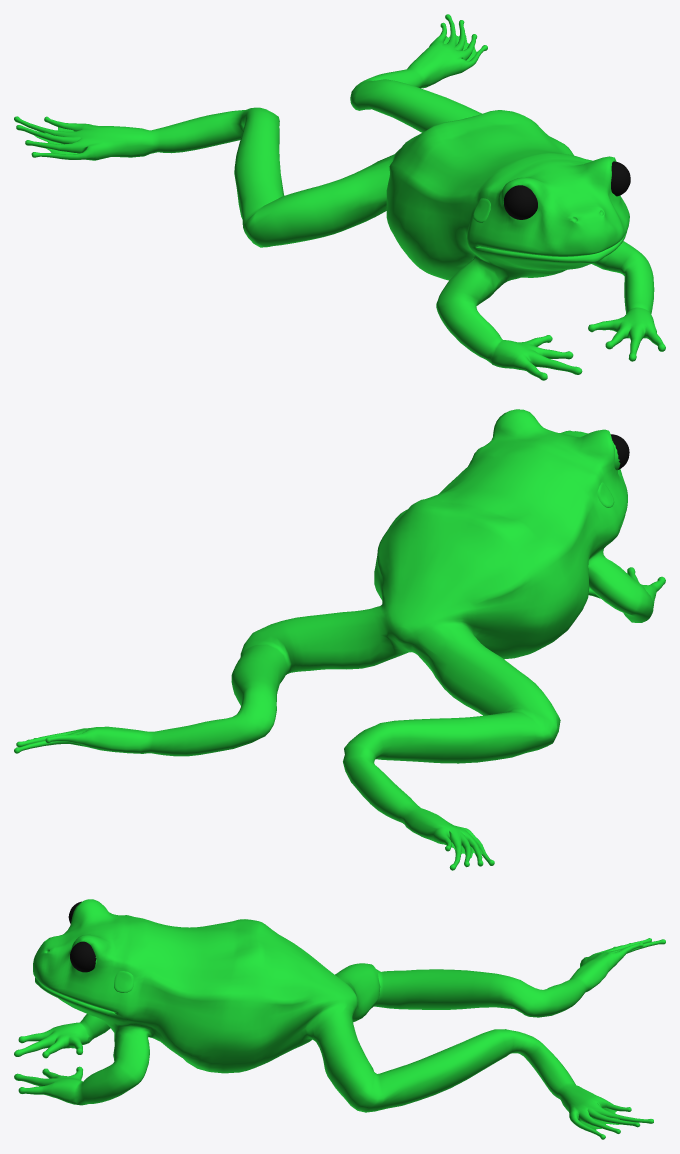
File: frog.obj
The picture shows the model from 3 angles, top to bottom: view 1: azimuth 30°, elevation 25°; view 2: azimuth 150°, elevation 25°; view 3: azimuth 270°, elevation 25°; orthographic projection. The views are drawn at different scales.
Visible parts, largest first — view 1: frog:Figure_2 group1, pSphere4, pSphere5; view 2: frog:Figure_2 group1; view 3: frog:Figure_2 group1, pSphere5.
Boxes of the visible parts, x1=… form: frog:Figure_2 group1: x1=14, y1=14, x2=665, y2=380; pSphere4: x1=503, y1=185, x2=537, y2=219; pSphere5: x1=611, y1=161, x2=630, y2=196; frog:Figure_2 group1: x1=14, y1=409, x2=665, y2=870; frog:Figure_2 group1: x1=14, y1=899, x2=665, y2=1139; pSphere5: x1=70, y1=941, x2=96, y2=972.
Bounding box in the file's own units: 2.81 × 1.05 × 4.01.
